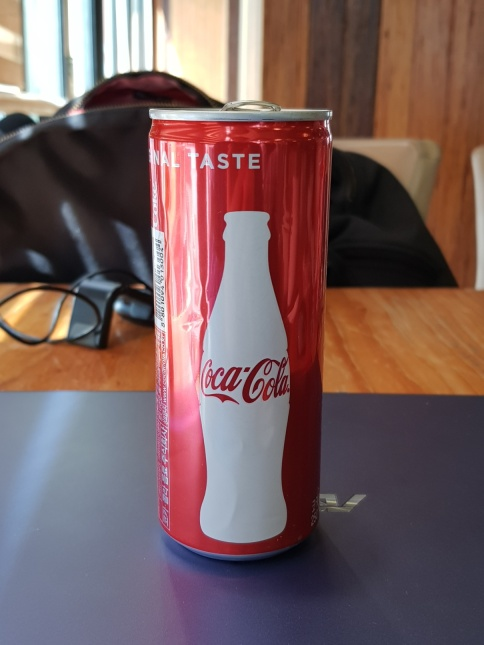Can: (145, 98, 337, 565)
